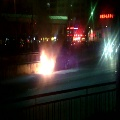fire: (34, 51, 54, 76)
